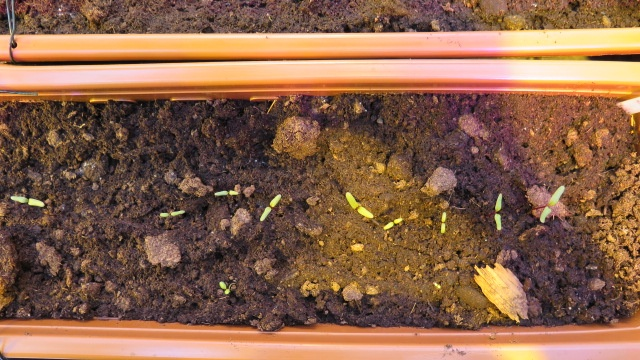crop: (539, 184, 567, 224), (342, 189, 376, 220), (257, 192, 285, 222), (5, 193, 49, 209), (489, 191, 506, 232), (380, 216, 406, 232), (154, 207, 191, 218), (435, 209, 449, 236), (209, 188, 244, 197)
weed: (216, 280, 233, 295)
